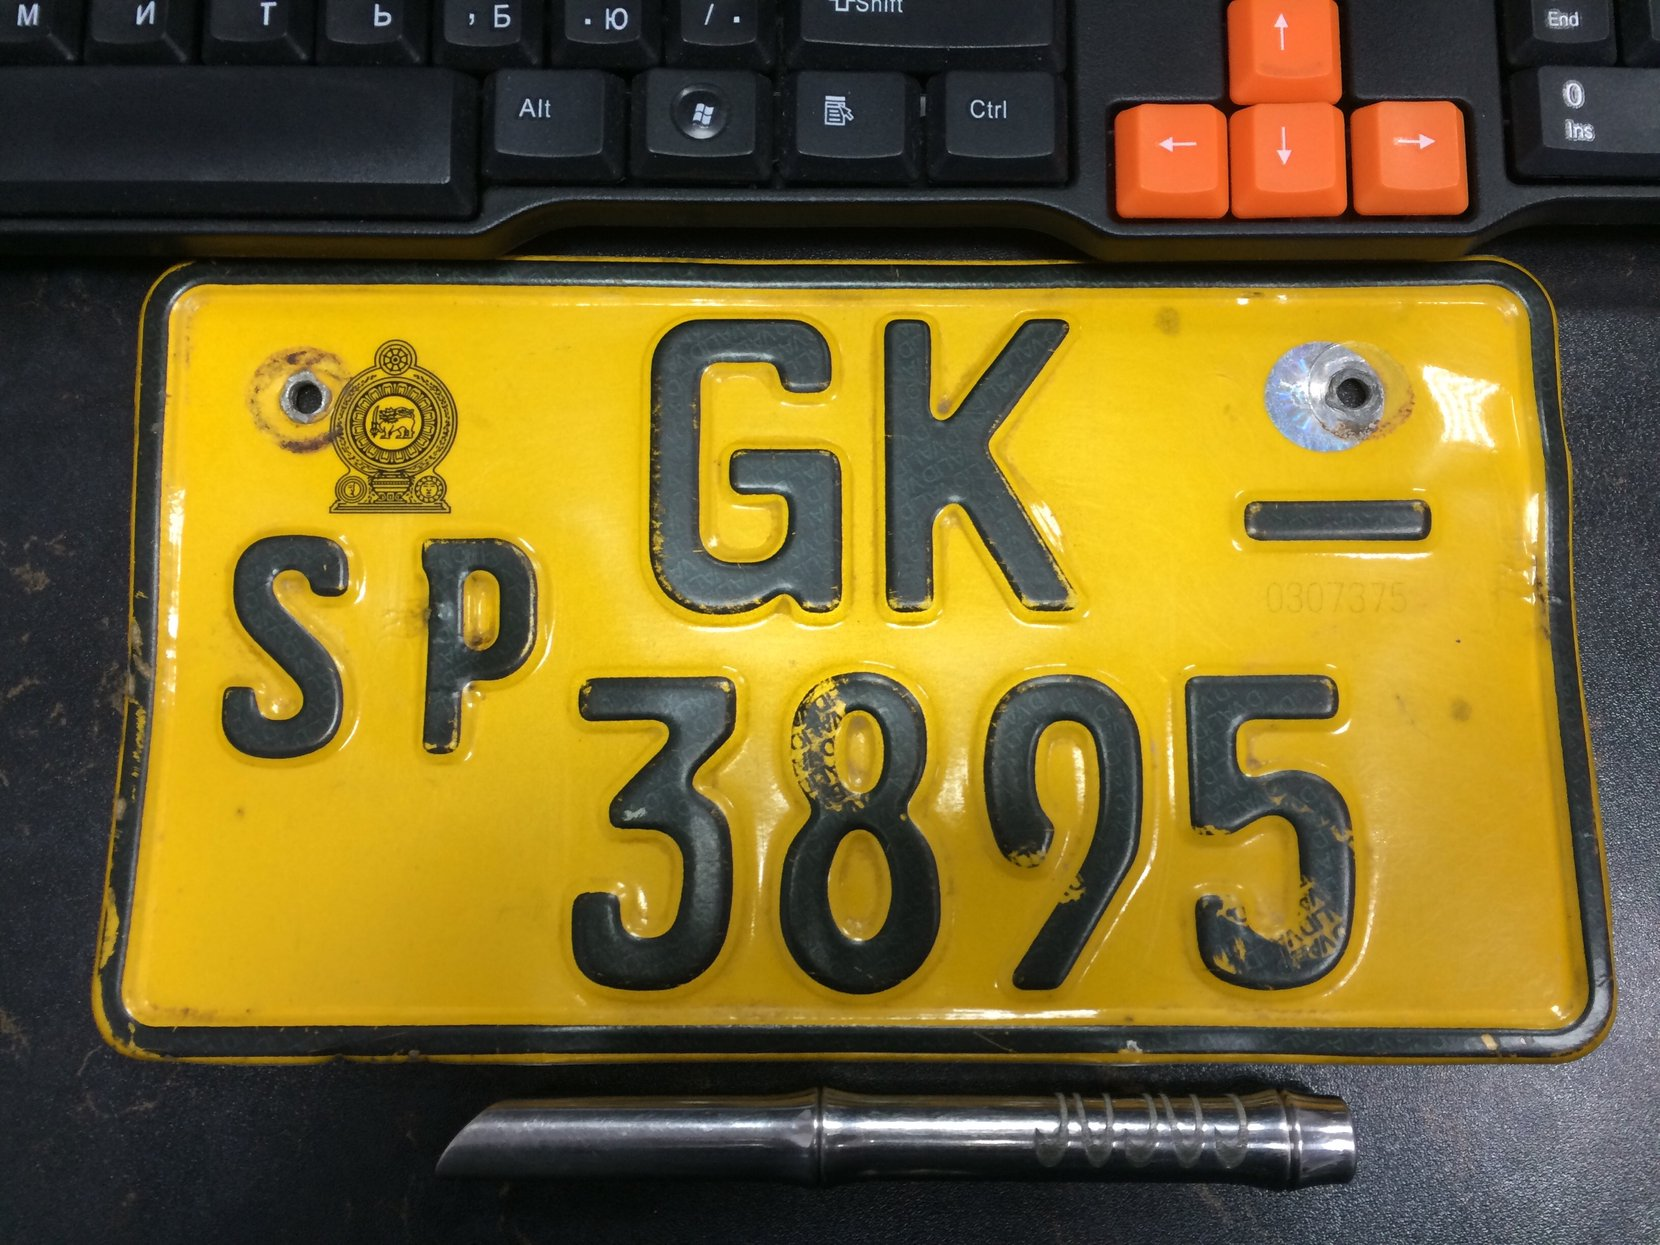doublelinenumberplate: (81, 259, 1620, 1061)
